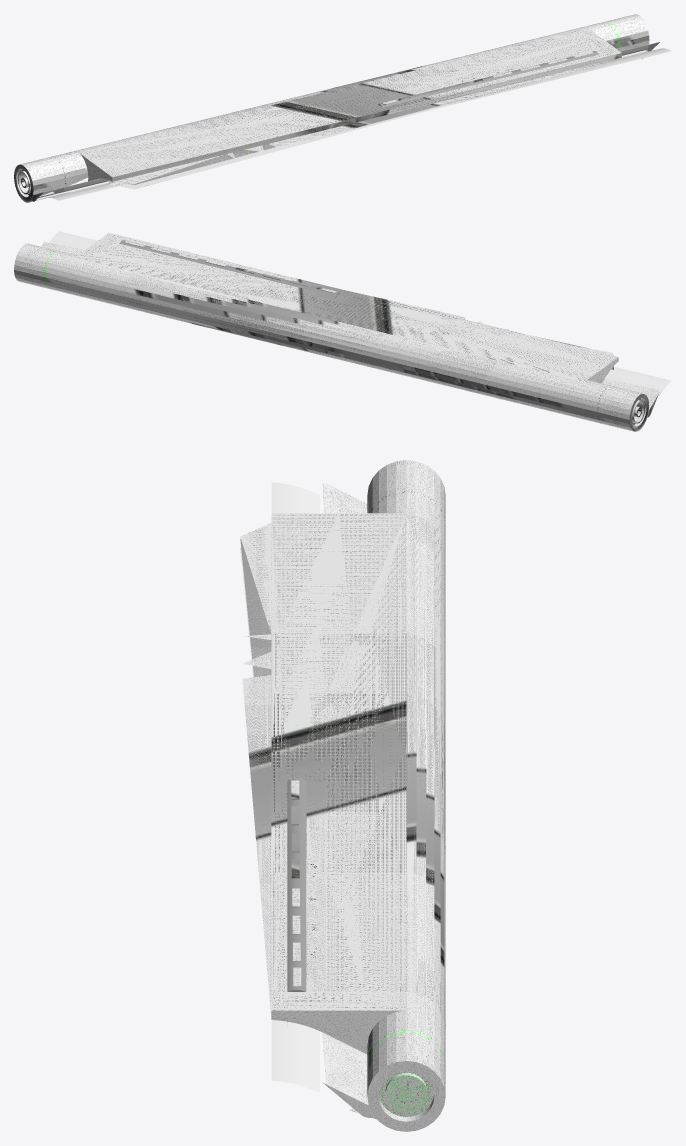
3 views of the same model, one above another, from view 1: azimuth 30°, elevation 25°; view 2: azimuth 150°, elevation 25°; view 3: azimuth 270°, elevation 25° (orthographic). The views are drawn at different scales.
Size of the model in its own units: 1.46 by 0.0844 by 0.2114.
Materials: 11 (3 with a texture image).
